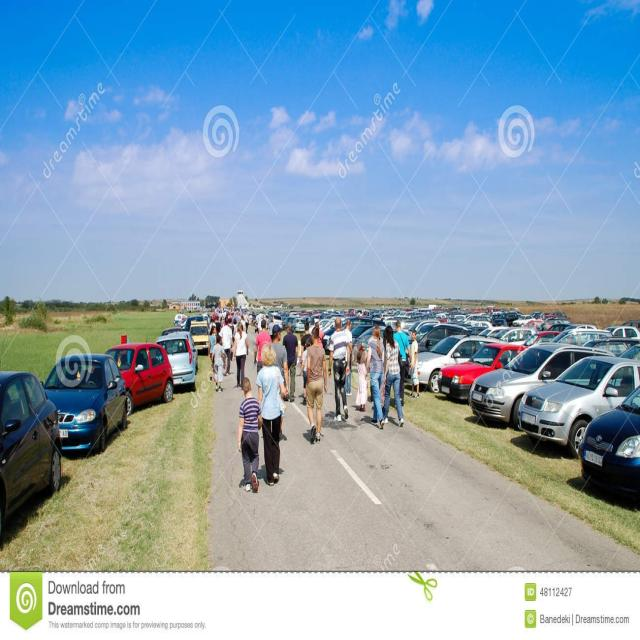body: (254, 340, 287, 489), (207, 306, 371, 334), (236, 374, 264, 495), (304, 324, 328, 445), (327, 316, 351, 422), (383, 324, 405, 427), (364, 323, 385, 430), (262, 323, 290, 399), (392, 320, 412, 410), (434, 305, 544, 320), (281, 322, 300, 404), (231, 320, 249, 390), (253, 318, 272, 377), (210, 333, 228, 392), (353, 346, 369, 412), (217, 316, 234, 376), (342, 318, 354, 397), (407, 328, 420, 400), (207, 324, 220, 384), (300, 321, 314, 364), (228, 316, 235, 362), (267, 314, 277, 344), (314, 321, 324, 348), (256, 315, 268, 335), (297, 332, 304, 363), (245, 310, 250, 334)
